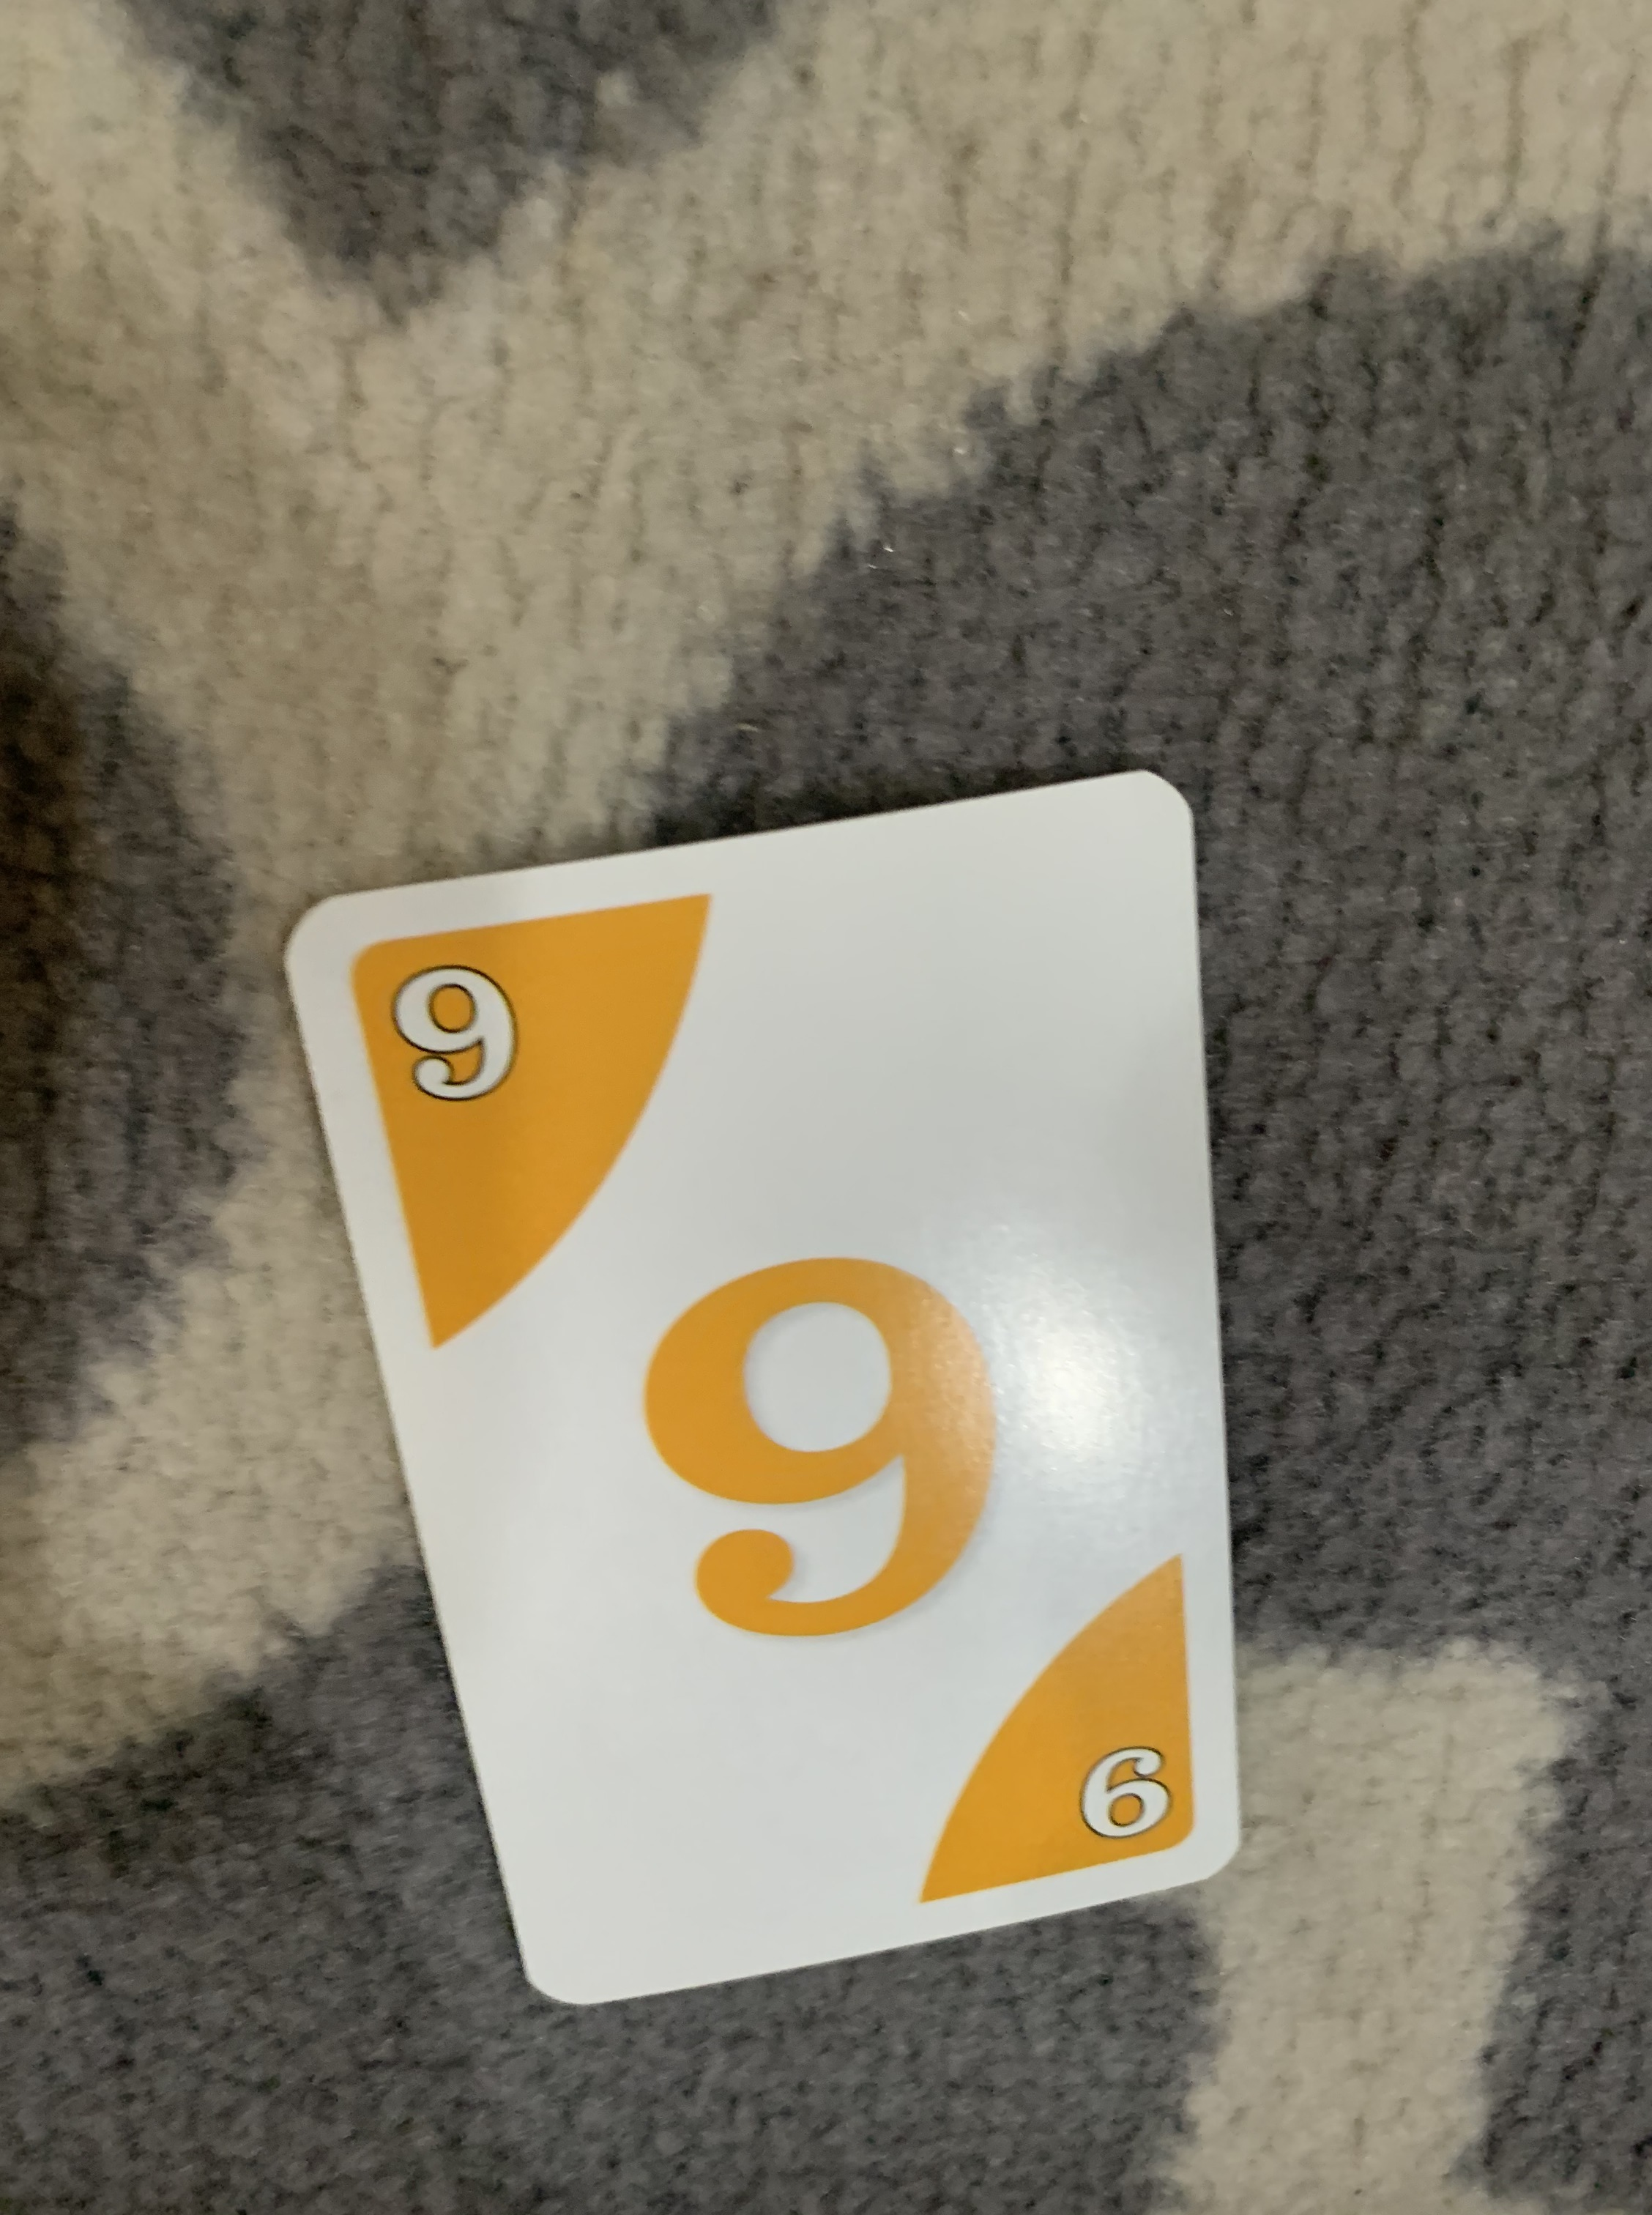nine: (241, 741, 1286, 2031)
